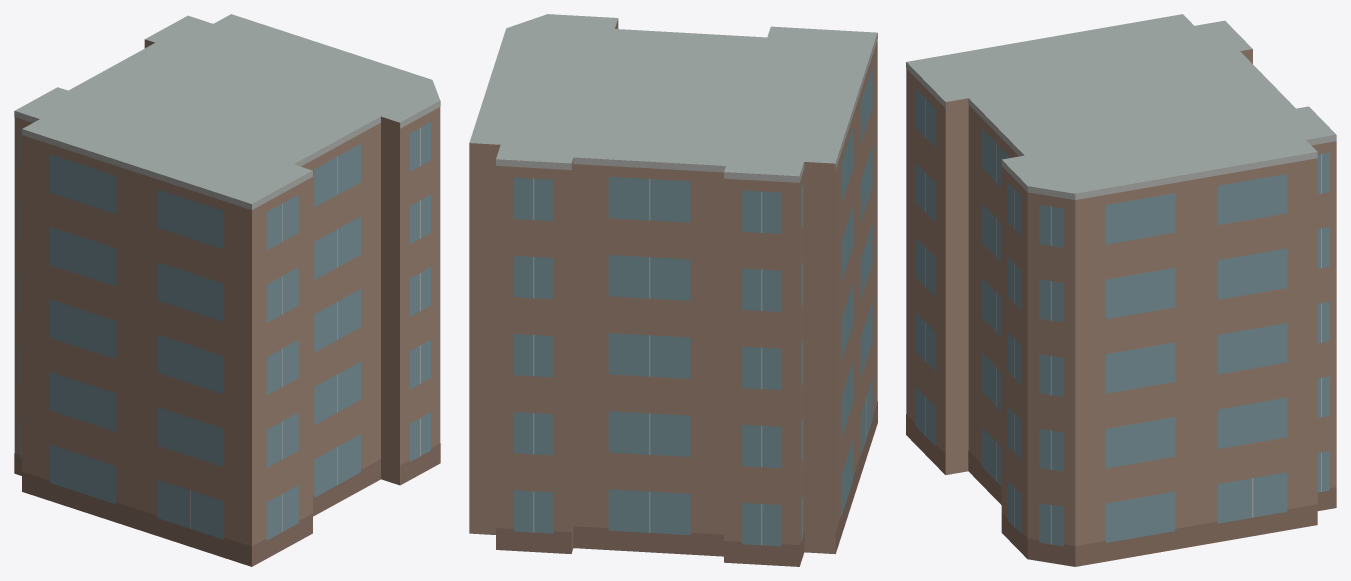
File: survey-upis-33035767.glb
3 renders of one model, left to right at view 1: azimuth 30°, elevation 25°; view 2: azimuth 150°, elevation 25°; view 3: azimuth 270°, elevation 25°, orthographic. The views are drawn at different scales.
Visible parts, largest first — view 1: survey-upis-33035767.tmp; view 2: survey-upis-33035767.tmp; view 3: survey-upis-33035767.tmp.
Part boxes in pixels (<box>): survey-upis-33035767.tmp: <box>14,14,440,566</box>; survey-upis-33035767.tmp: <box>469,14,877,566</box>; survey-upis-33035767.tmp: <box>906,14,1336,566</box>.
Size of the model in its own units: 14.99 by 14.5 by 15.17.
